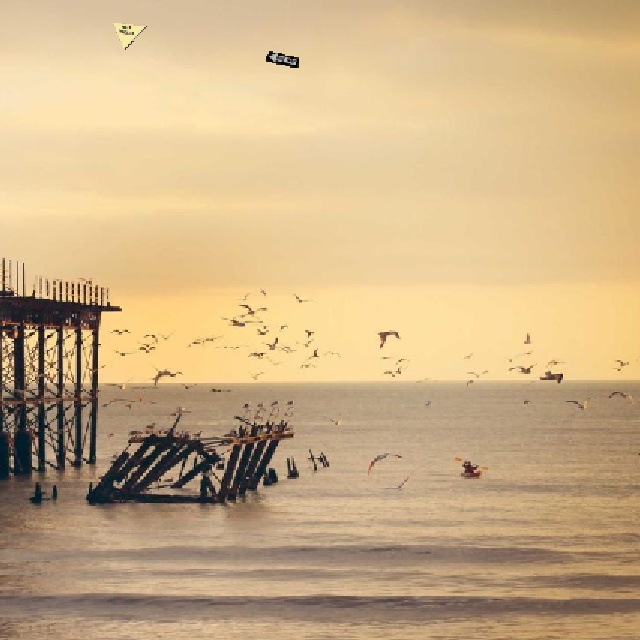NOT_YIELD: (111, 21, 146, 49)
ONE_WAY_ left: (263, 49, 298, 67)
